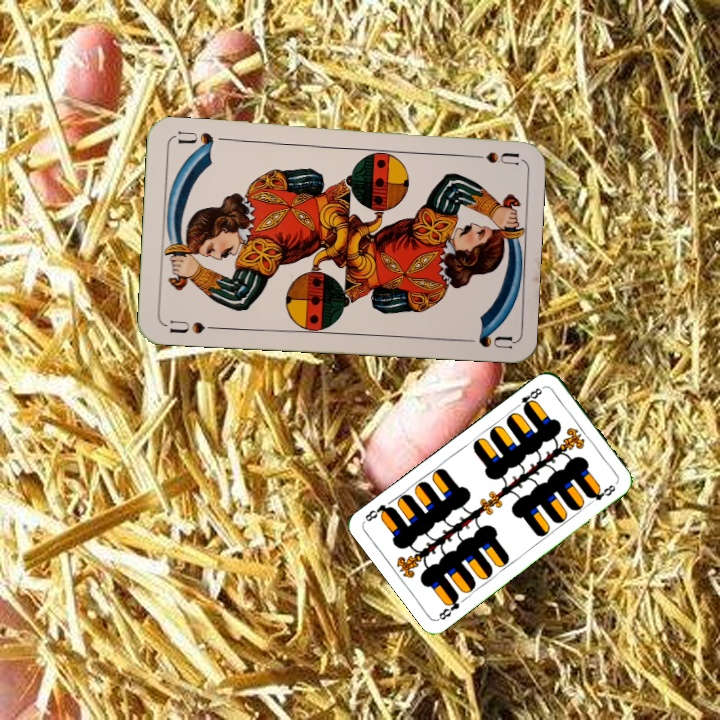E8: (511, 383, 547, 413), (434, 591, 462, 623)
SU: (461, 148, 520, 169), (162, 316, 221, 336)
